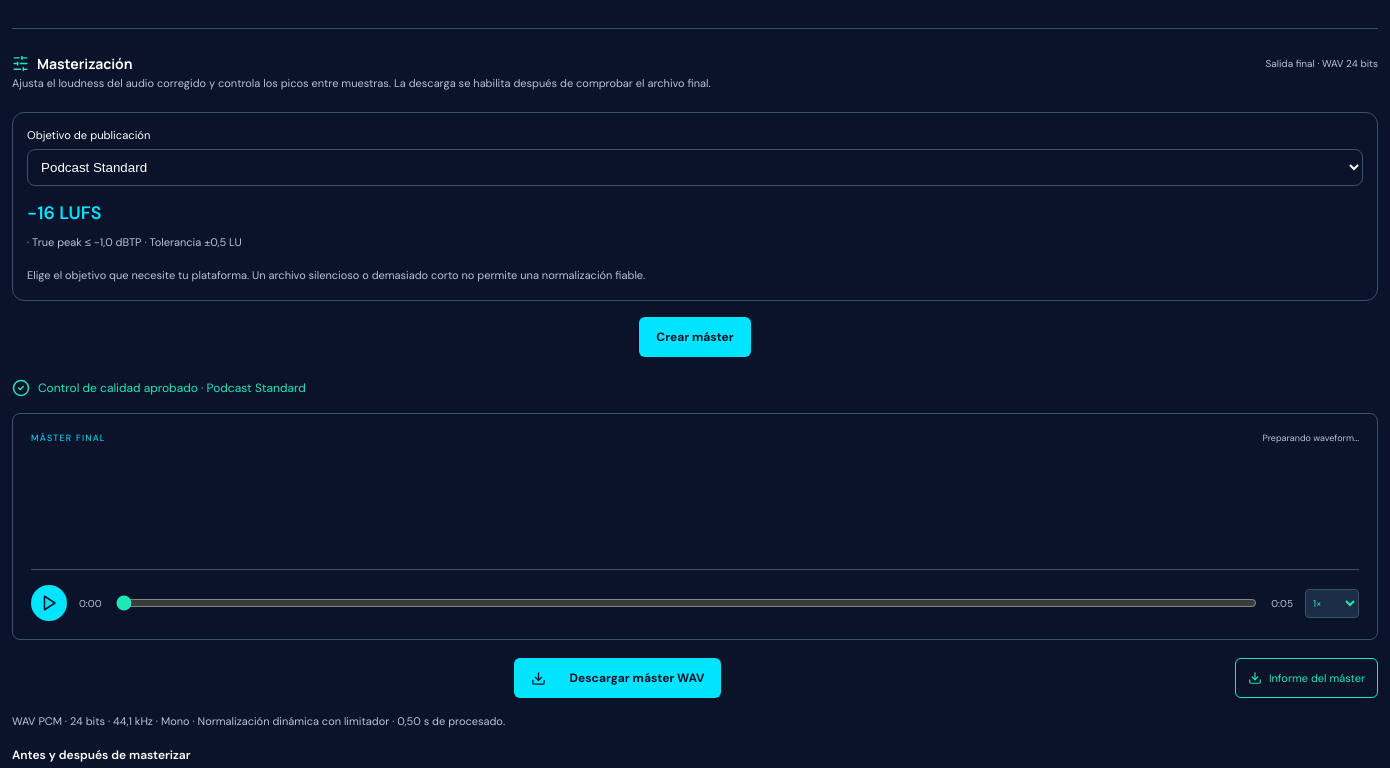
reports invalidated downloads without saving an error response
Step 1. Click the button "Descargar máster WAV" → (617, 678), box [514,658,721,698]
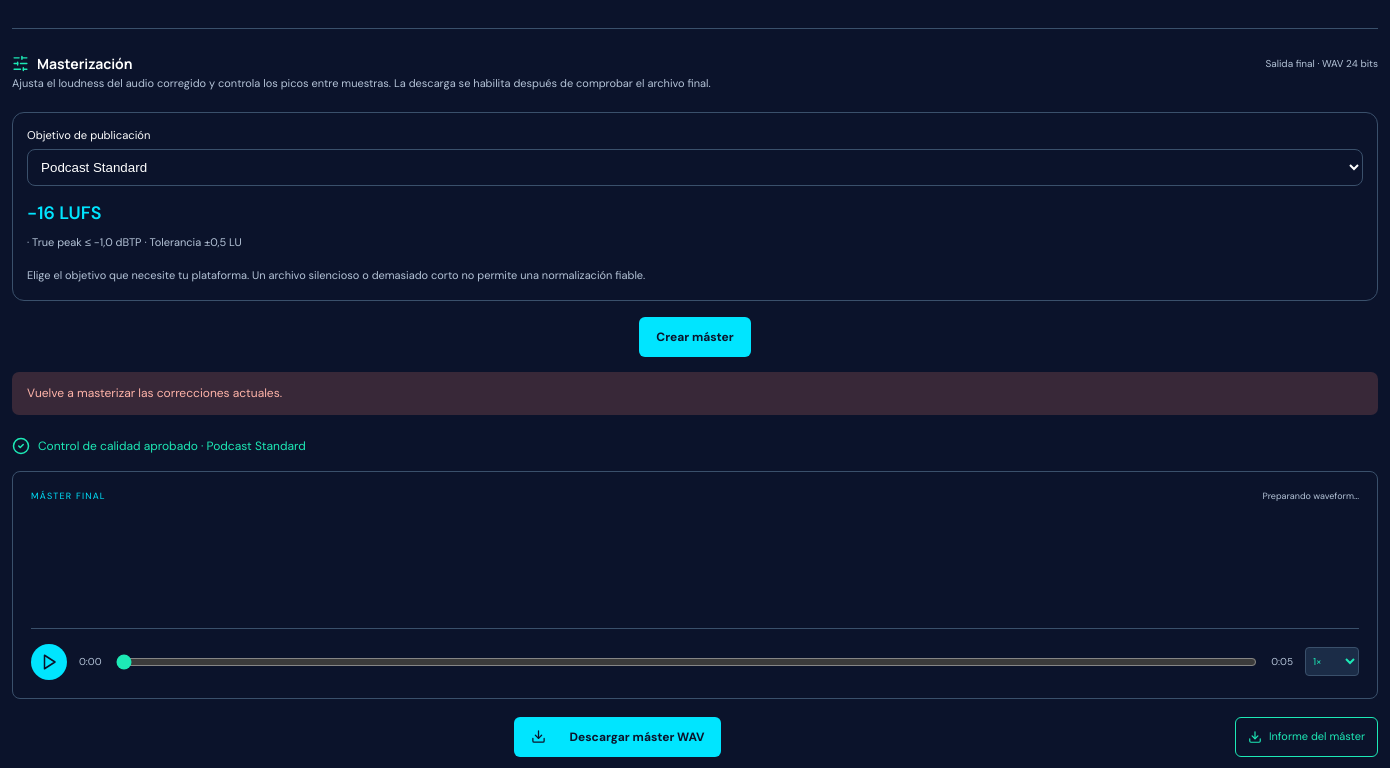
Result: the message "Vuelve a masterizar las correcciones actuales." is shown at [12,372,1378,415]
